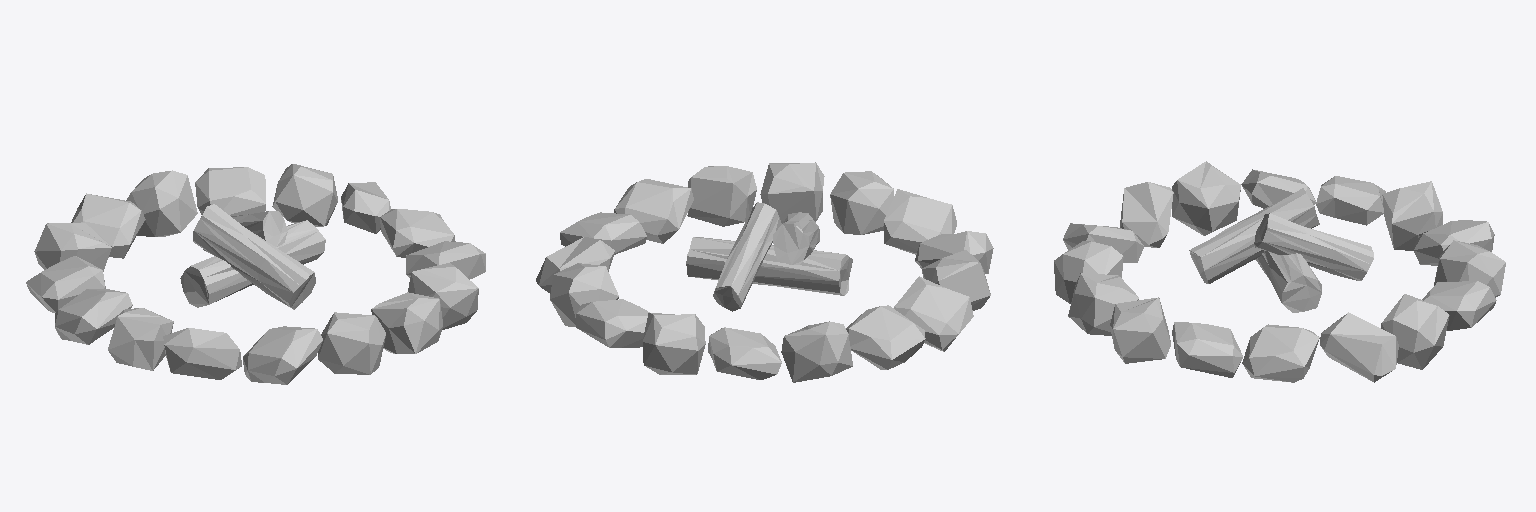
Rendered from firepit.obj.
3 renders of one model, left to right at view 1: azimuth 30°, elevation 25°; view 2: azimuth 150°, elevation 25°; view 3: azimuth 270°, elevation 25°, orthographic.
Visible parts, largest first — view 1: Firepit; view 2: Firepit; view 3: Firepit.
Boxes of the visible parts, <box> form: Firepit: <box>26,164,485,384</box>; Firepit: <box>536,162,993,382</box>; Firepit: <box>1054,161,1505,382</box>.
Bounding box in the file's own units: 3.33 × 0.8118 × 3.33.